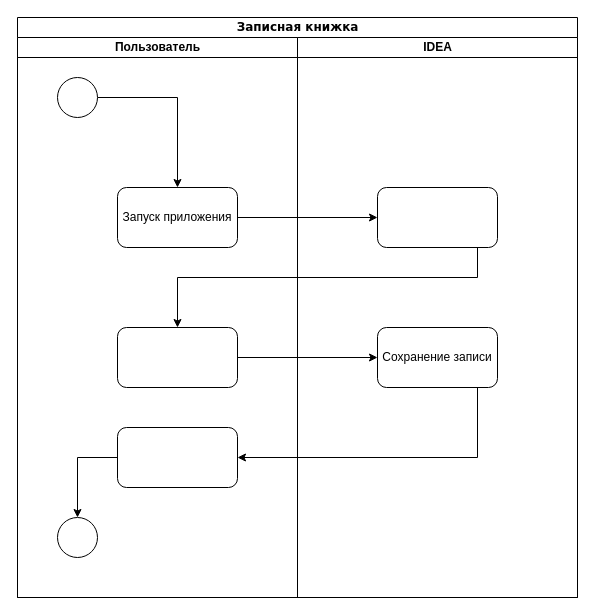
This 595x615 diagram has some shape labels left out. The shapes that lost their labels are listed below. From the top down, each one's centre as x and y in pixels, then its label:
At (437,217): "Сбор проекта".
At (177,357): "Добавить контакт".
At (177,457): "Контакт добавен".
